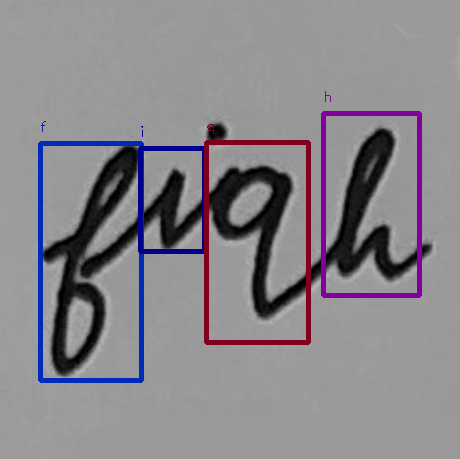f: (43, 142, 146, 379)
h: (330, 124, 416, 285)
i: (153, 153, 194, 256)
q: (205, 158, 299, 327)
